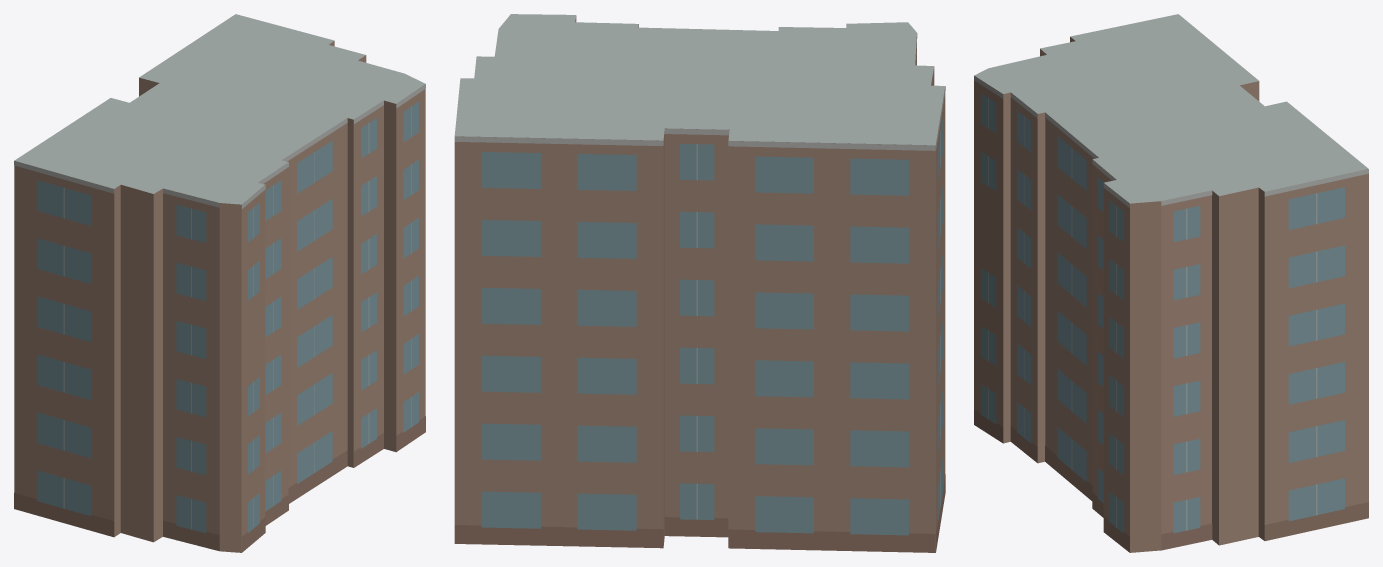
File: survey-upis-32696521.glb
3 renders of one model, left to right at view 1: azimuth 30°, elevation 25°; view 2: azimuth 150°, elevation 25°; view 3: azimuth 270°, elevation 25°, orthographic. The views are drawn at different scales.
Parts seen in each view (by area): view 1: survey-upis-32696521.tmp; view 2: survey-upis-32696521.tmp; view 3: survey-upis-32696521.tmp.
Part boxes in pixels (x1=…): survey-upis-32696521.tmp: x1=14, y1=14, x2=425, y2=552; survey-upis-32696521.tmp: x1=454, y1=14, x2=945, y2=552; survey-upis-32696521.tmp: x1=974, y1=14, x2=1368, y2=552.
Bounding box in the file's own units: 20.72 × 17.8 × 18.24.
